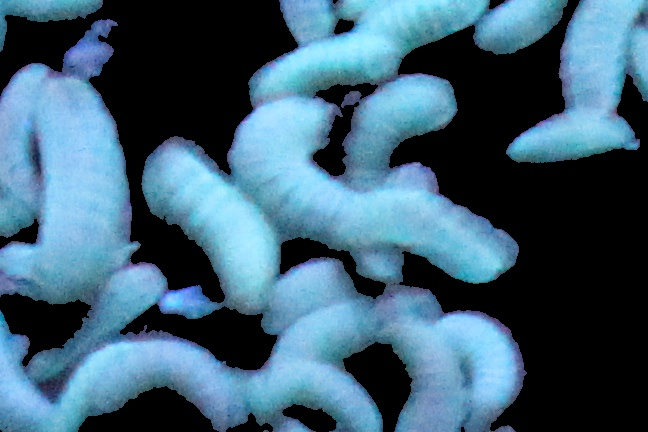larvae: (142, 129, 285, 322), (30, 73, 130, 300), (228, 95, 369, 235), (345, 185, 518, 285), (61, 336, 240, 432), (339, 71, 455, 183), (232, 38, 406, 109), (383, 288, 468, 432), (445, 307, 531, 432), (558, 1, 648, 116), (246, 363, 384, 432), (258, 298, 388, 364), (505, 107, 643, 164), (352, 2, 490, 56), (1, 48, 45, 213), (255, 256, 344, 327), (470, 1, 566, 55)
